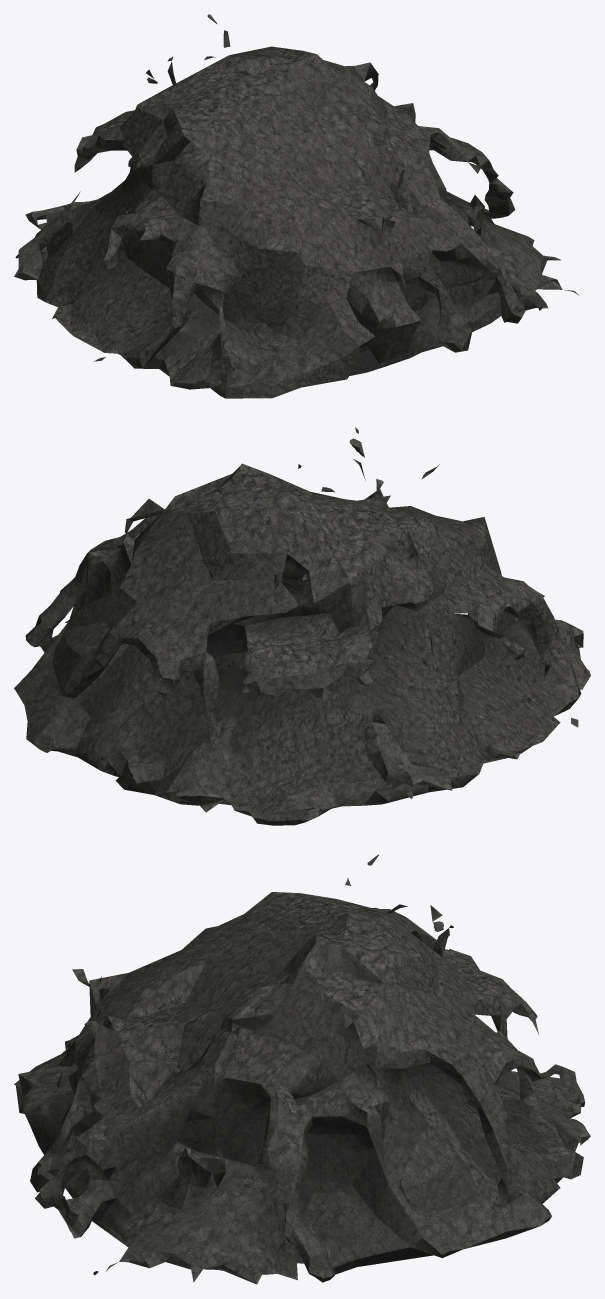
File: m12-grave-moss.glb
The picture shows the model from 3 angles, top to bottom: view 1: azimuth 30°, elevation 25°; view 2: azimuth 150°, elevation 25°; view 3: azimuth 270°, elevation 25°; orthographic projection. The views are drawn at different scales.
Bounding box in the file's own units: 1.69 × 0.8907 × 1.63.
1 material, 1 textured.
